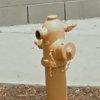Hydrant: (30, 10, 84, 100)
